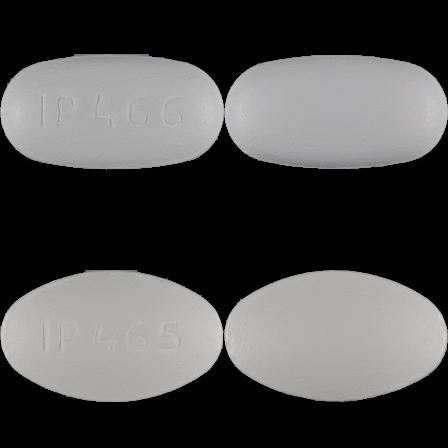43353-391: (0, 0, 224, 224)
